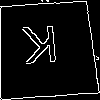K: (21, 25, 60, 73)
